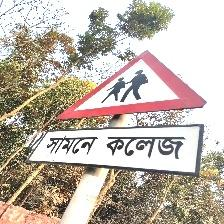College-in-front: (14, 45, 213, 178)
